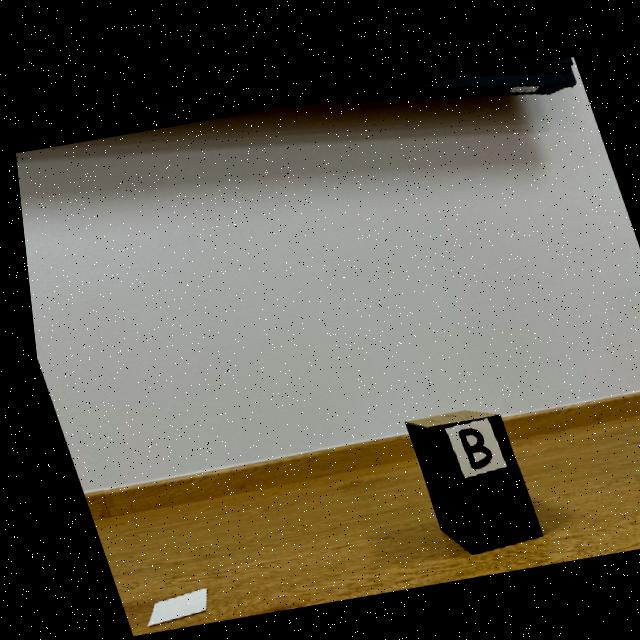B: (450, 420, 483, 462)
